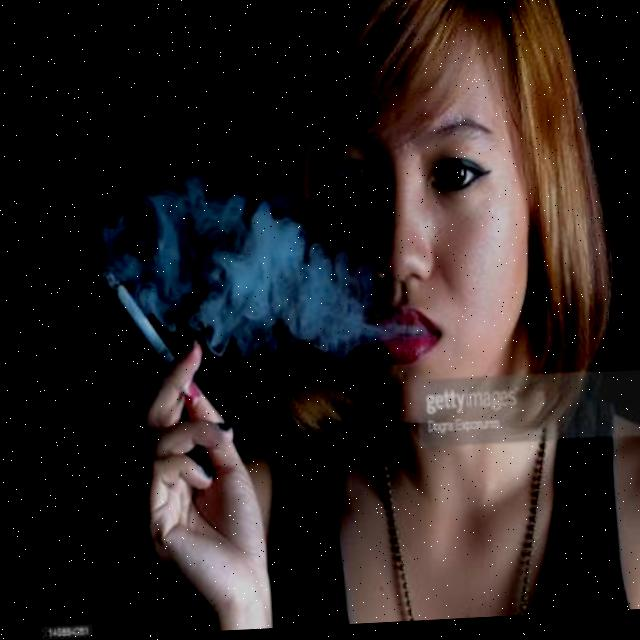cigarette: (98, 267, 196, 410)
